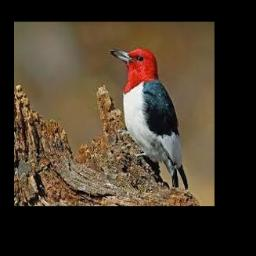Woodpecker: (110, 48, 189, 190)
